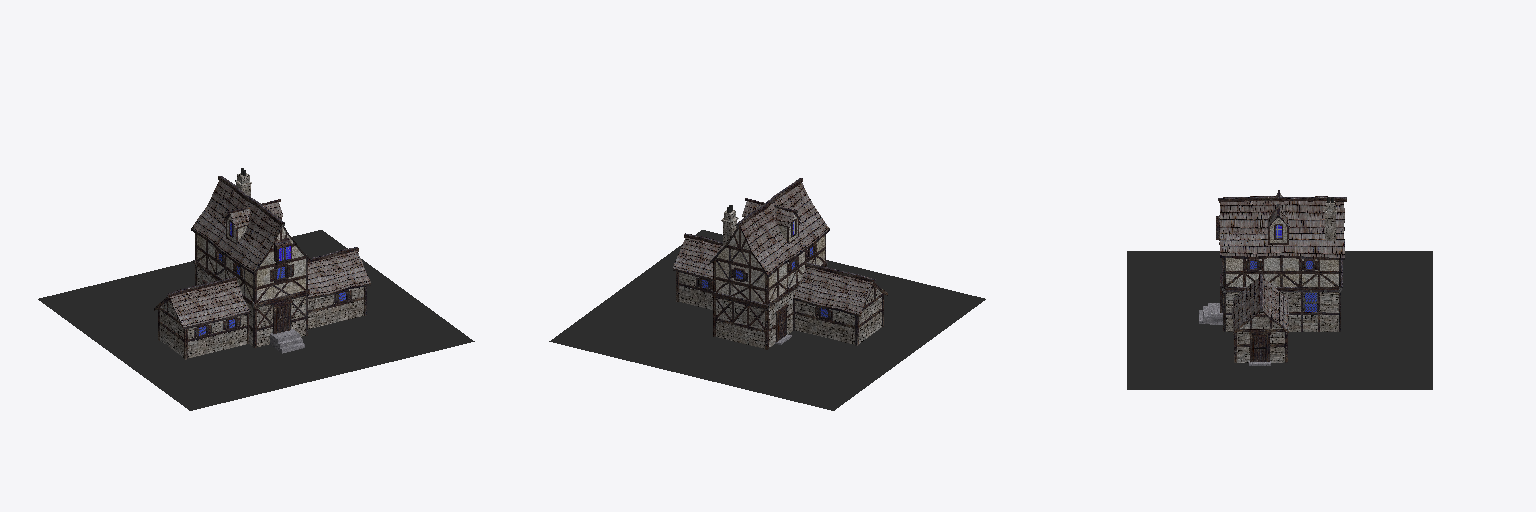
3 renders of one model, left to right at view 1: azimuth 30°, elevation 25°; view 2: azimuth 150°, elevation 25°; view 3: azimuth 270°, elevation 25°, orthographic.
Visible parts, largest first — view 1: Plane, Roof, Level1, WoodenBeams, Level2, RoofFrame, WindowFrames, Steps; view 2: Plane, Roof, Level1, WoodenBeams, Level2, RoofFrame, WindowFrames; view 3: Plane, Roof, Level1, WoodenBeams, Level2, RoofFrame, WindowFrames.
Boxes of the visible parts, box(x1,y1,x2,y2) form: Plane: box(38, 230, 474, 410); Roof: box(170, 180, 370, 326); Level1: box(160, 267, 363, 358); WoodenBeams: box(158, 215, 366, 359); Level2: box(197, 227, 305, 301); RoofFrame: box(154, 176, 370, 329); WindowFrames: box(194, 220, 351, 337); Steps: box(270, 329, 304, 353); Plane: box(549, 230, 985, 410); Roof: box(673, 183, 872, 314); Level1: box(679, 272, 881, 348); WoodenBeams: box(676, 215, 883, 349); Level2: box(716, 229, 824, 302); RoofFrame: box(673, 178, 887, 316); WindowFrames: box(696, 219, 832, 319); Plane: box(1127, 251, 1432, 389); Roof: box(1219, 193, 1344, 331); Level1: box(1226, 292, 1338, 362); WoodenBeams: box(1222, 218, 1342, 362); Level2: box(1226, 258, 1338, 286); RoofFrame: box(1218, 190, 1346, 334); WindowFrames: box(1216, 215, 1319, 325).
Bounding box in the file's own units: 22.44 × 9.79 × 20.92.
17 materials, 9 textured.